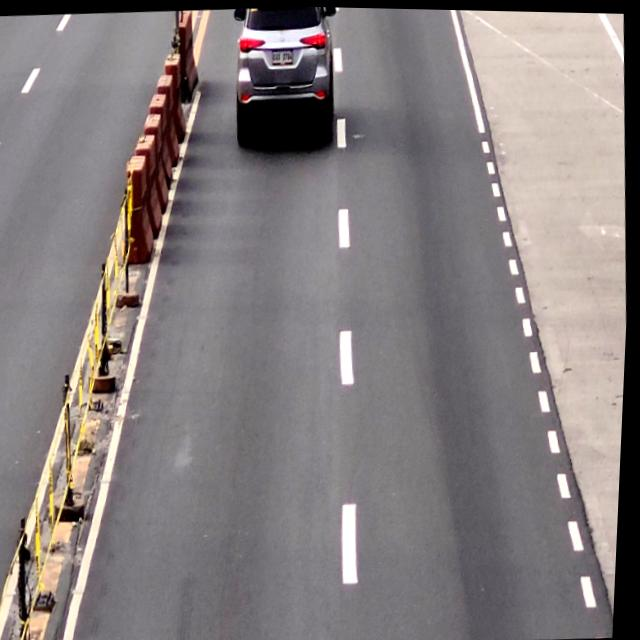Car: (229, 4, 341, 152)
License-Plate: (273, 46, 294, 66)
